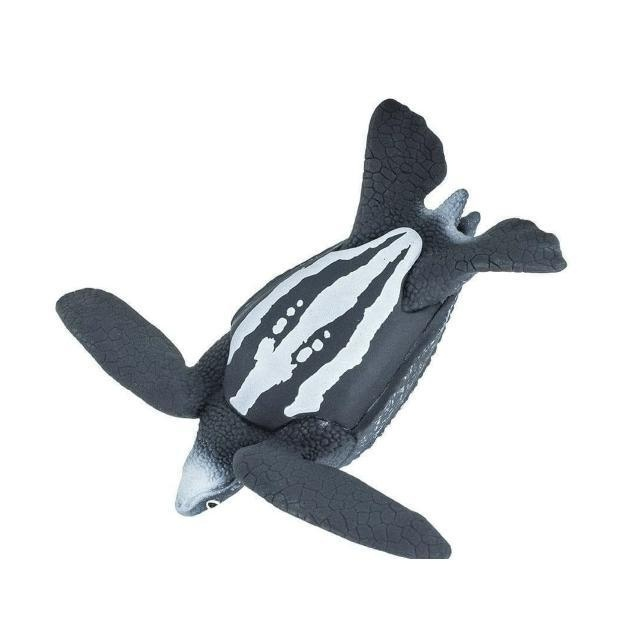turtle: (54, 98, 566, 558)
